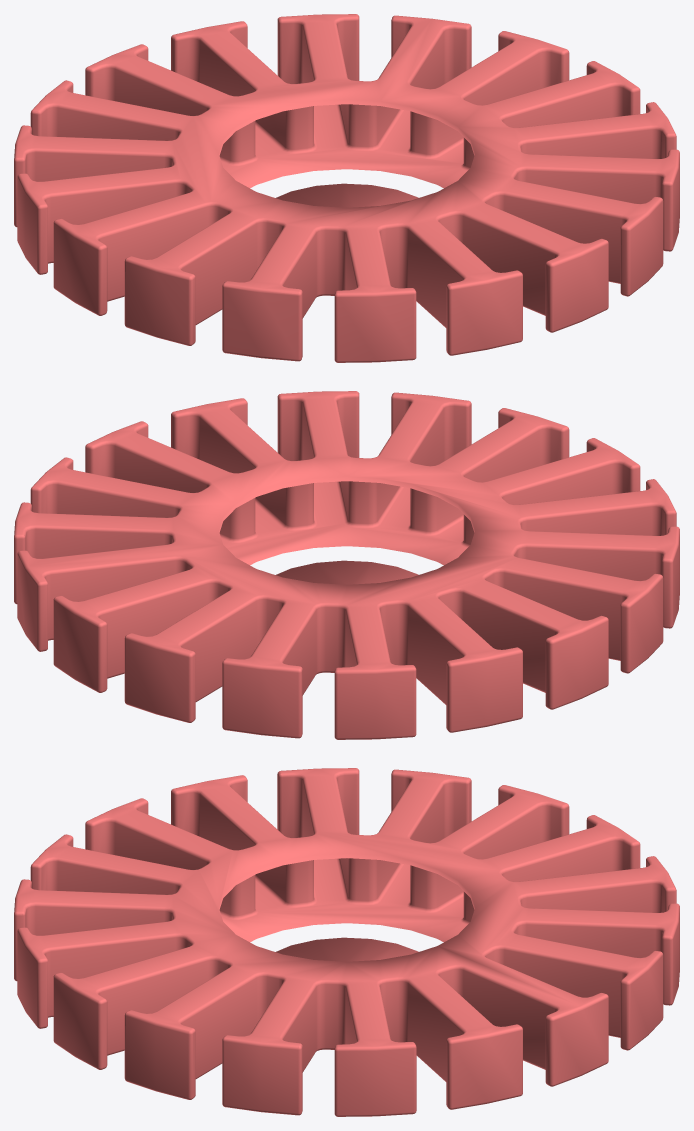
File: solo12_hip_fe_hr_11.obj
The picture shows the model from 3 angles, top to bottom: view 1: azimuth 30°, elevation 25°; view 2: azimuth 150°, elevation 25°; view 3: azimuth 270°, elevation 25°; orthographic projection.
Size of the model in its own units: 0.039 by 0.0045 by 0.039.
